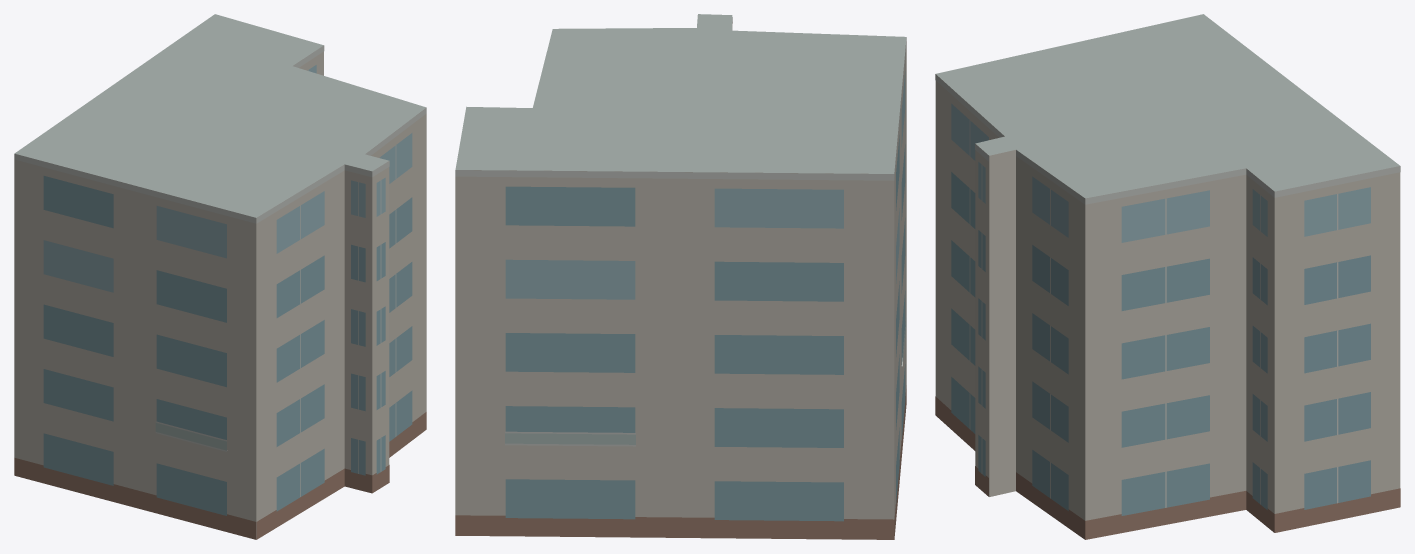
Rendered from survey-upis-32852177.glb.
The picture shows the model from 3 angles, left to right: view 1: azimuth 30°, elevation 25°; view 2: azimuth 150°, elevation 25°; view 3: azimuth 270°, elevation 25°; orthographic projection. The views are drawn at different scales.
Parts seen in each view (by area): view 1: survey-upis-32852177.tmp; view 2: survey-upis-32852177.tmp; view 3: survey-upis-32852177.tmp.
Boxes of the visible parts, box(x1,y1,x2,y2) form: survey-upis-32852177.tmp: box(14, 14, 426, 539); survey-upis-32852177.tmp: box(455, 14, 906, 539); survey-upis-32852177.tmp: box(935, 14, 1400, 539).
Size of the model in its own units: 15.34 by 13.23 by 16.34.
